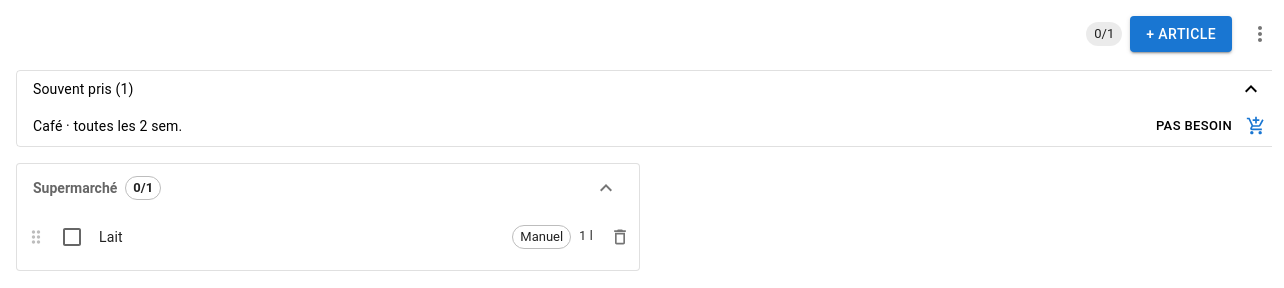
Test: GroceryListView — « Souvent pris » › collapsing the banner hides its rows
expect the text "Lait" is shown: met, box [99,229,123,245]
expect the text "Café · toutes les 2 sem." is shown: met, box [33,118,182,134]
Click the button "Souvent pris (1)". click: (83, 89)
box: [17,71,1272,107]
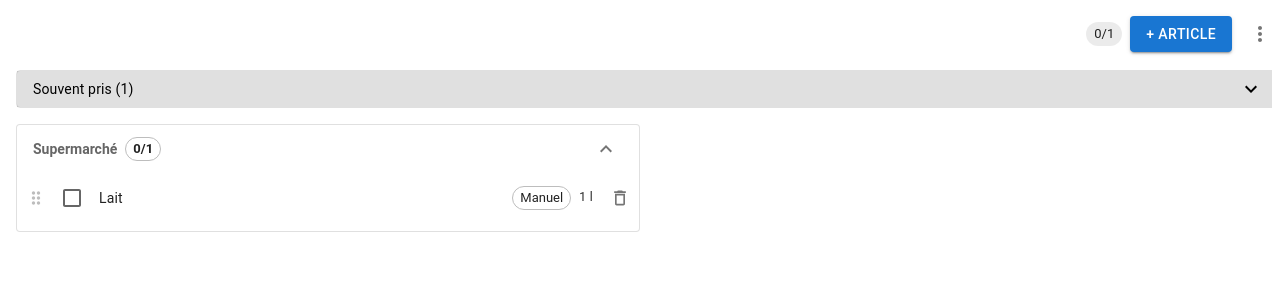
expect the text "Café · toutes les 2 sem." is gone: met
Click the button "Souvent pris (1)". click: (83, 89)
box: [17,71,1272,107]
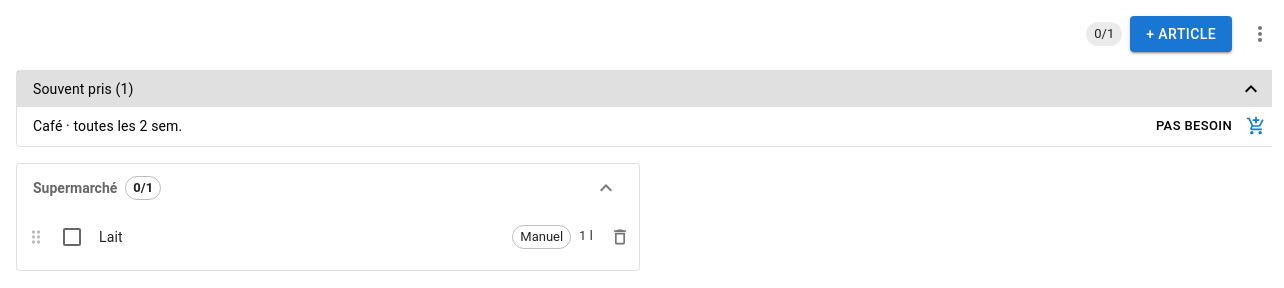
expect the text "Café · toutes les 2 sem." is shown: met, box [33,118,182,134]
